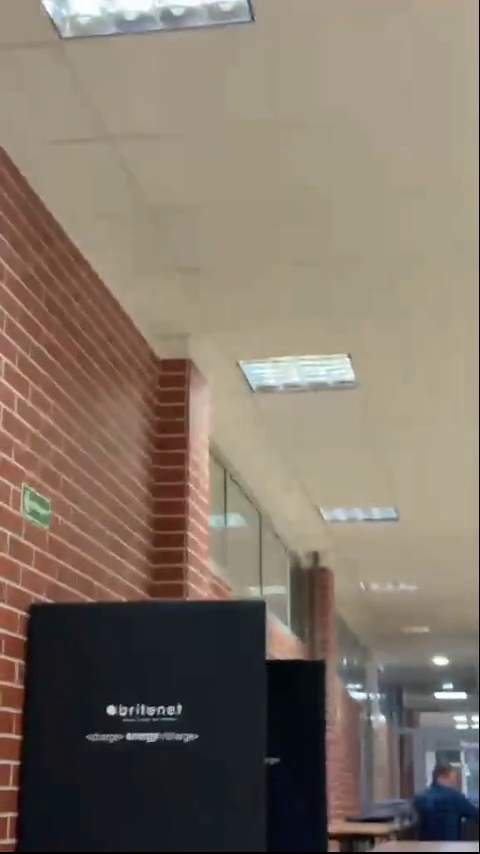no vest: (411, 768, 479, 835)
